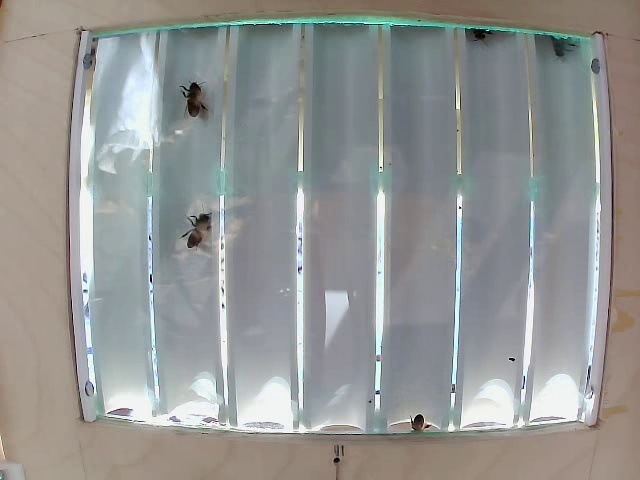bee: (177, 198, 227, 250), (172, 74, 223, 117)
